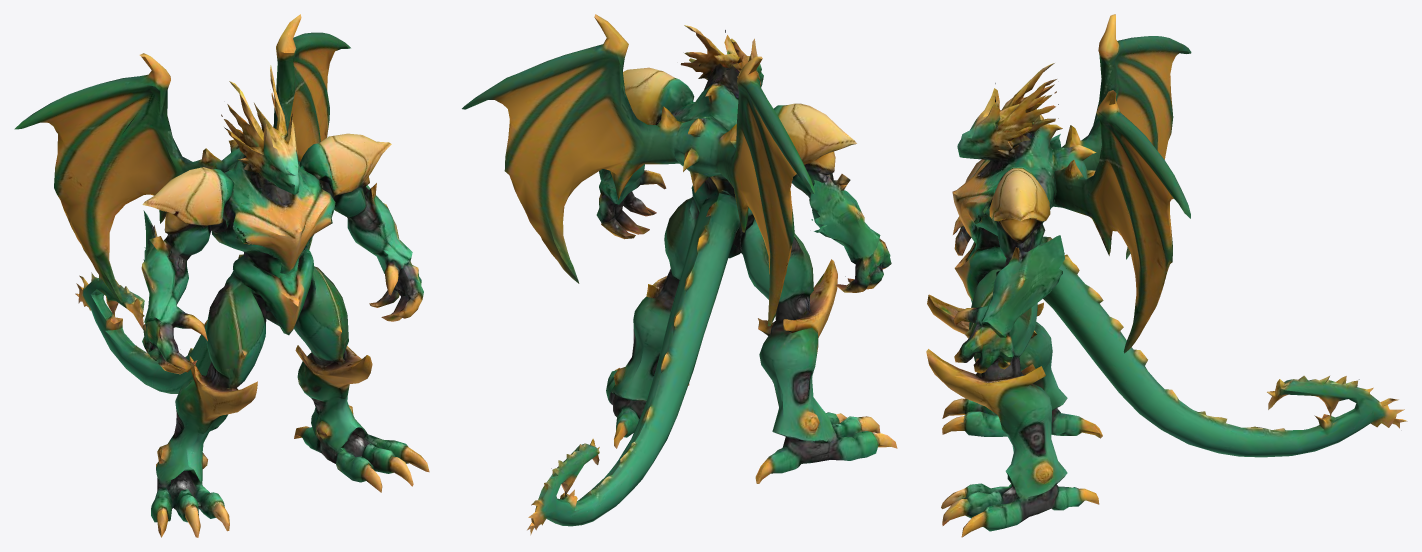
Rendered from dragon_green_armored_lod0.glb.
The picture shows the model from 3 angles, left to right: view 1: azimuth 30°, elevation 25°; view 2: azimuth 150°, elevation 25°; view 3: azimuth 270°, elevation 25°; orthographic projection. The views are drawn at different scales.
Parts seen in each view (by area): view 1: dragon_green_armored_lod0; view 2: dragon_green_armored_lod0; view 3: dragon_green_armored_lod0.
Part boxes in pixels (x1,y1,x2,y2): dragon_green_armored_lod0: (14,14,429,537); dragon_green_armored_lod0: (462,14,897,535); dragon_green_armored_lod0: (926,14,1407,537).
Size of the model in its own units: 2.11 by 2.49 by 2.57.
Materials: 1 (1 with a texture image).
